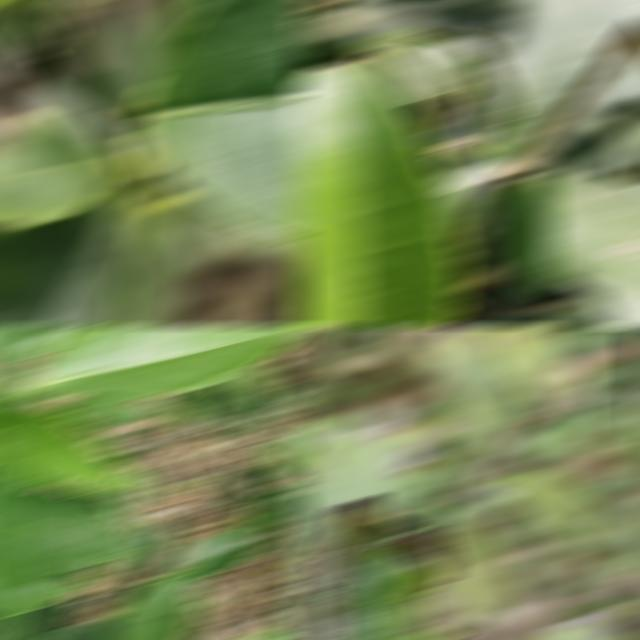Leaf: (293, 56, 469, 324), (129, 2, 307, 238), (293, 428, 455, 638), (489, 2, 640, 157), (303, 499, 468, 638), (23, 328, 307, 396), (0, 193, 141, 324), (536, 175, 640, 324), (0, 112, 122, 223), (0, 406, 142, 496), (416, 328, 517, 449), (16, 487, 163, 565), (542, 50, 640, 153), (478, 178, 559, 295), (432, 524, 508, 635), (478, 473, 595, 542), (115, 219, 182, 324), (487, 328, 560, 402), (524, 601, 640, 638), (9, 562, 94, 612), (168, 533, 268, 575), (186, 386, 263, 440), (0, 2, 70, 44), (62, 397, 158, 427), (129, 521, 179, 575), (216, 462, 263, 509), (223, 366, 275, 404), (274, 579, 307, 638), (16, 328, 85, 354), (257, 441, 307, 476), (235, 387, 289, 417), (256, 500, 306, 527), (170, 394, 206, 430), (25, 625, 118, 638), (225, 515, 272, 537), (106, 434, 147, 454)
